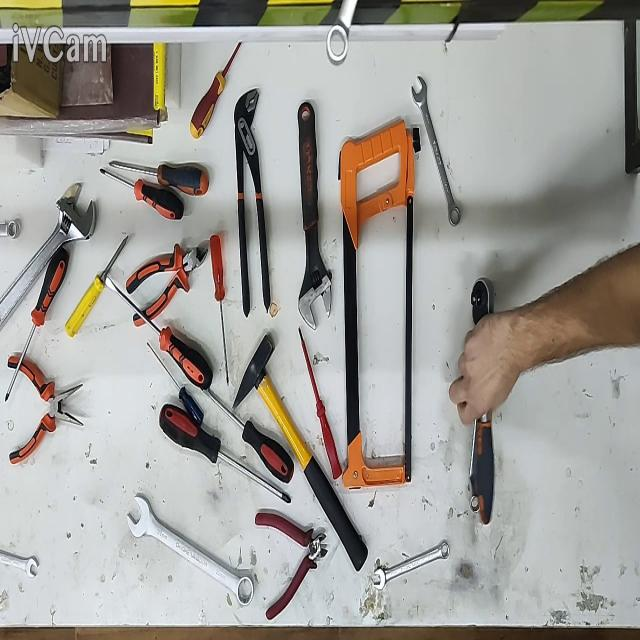Screwdriver: (159, 404, 291, 502), (106, 278, 212, 391), (5, 247, 69, 399), (205, 389, 294, 483), (299, 329, 342, 480), (65, 236, 129, 337), (190, 42, 242, 139), (146, 342, 204, 427), (100, 168, 184, 220), (109, 160, 209, 196), (210, 236, 229, 388)
